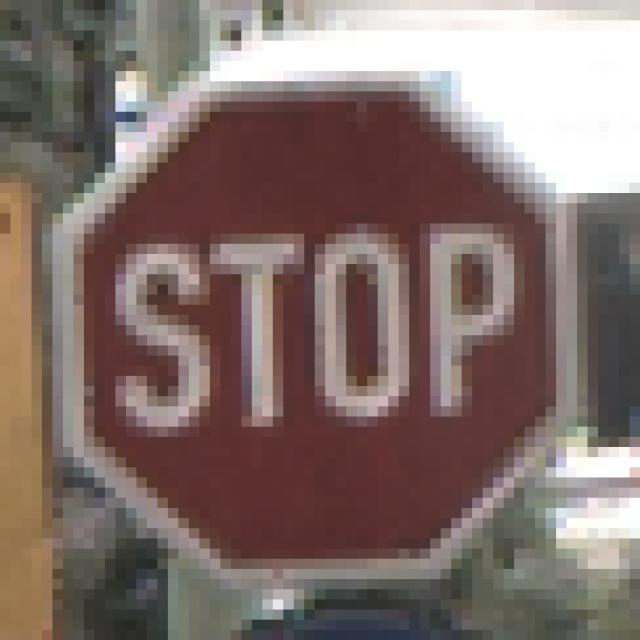STOP: (54, 62, 589, 590)
